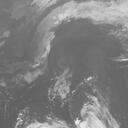cyclone: (42, 32, 102, 94)
